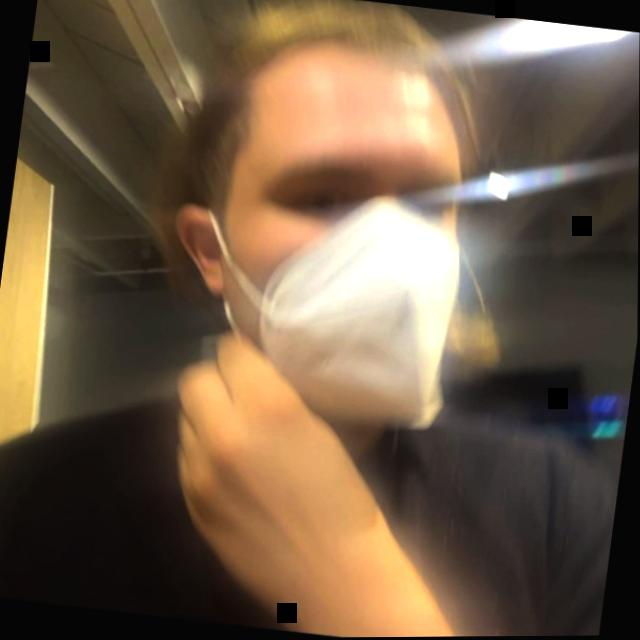Mask: (132, 0, 554, 430)
